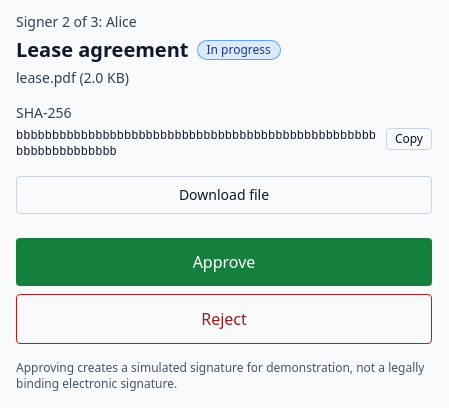
Test: signing page › shows the waiting state when approve returns 409 not_your_turn
Click the button "Approve" at (224, 262), box [16,238,432,286]
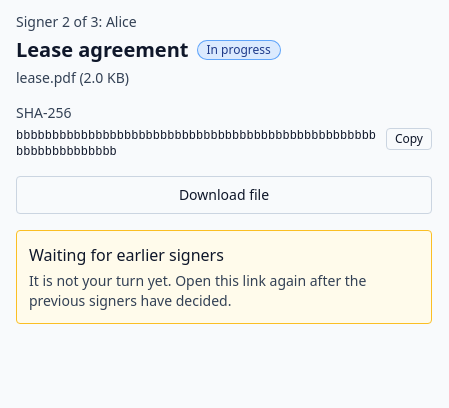
Check: the text "Waiting for earlier signers" is shown, box [29,244,224,266]
Check: the button "Approve" is gone
